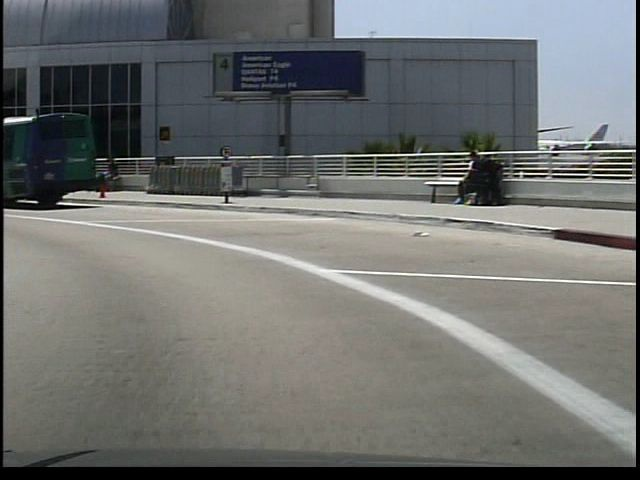person: (96, 152, 119, 196)
